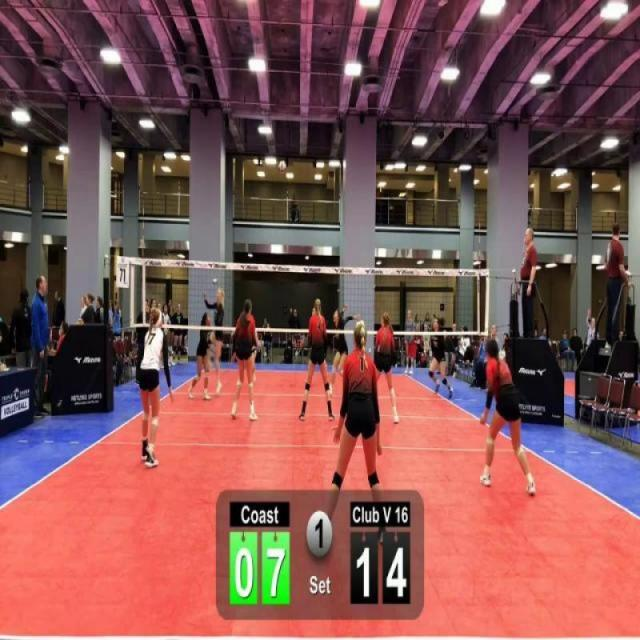volleyball: (278, 159, 288, 176)
